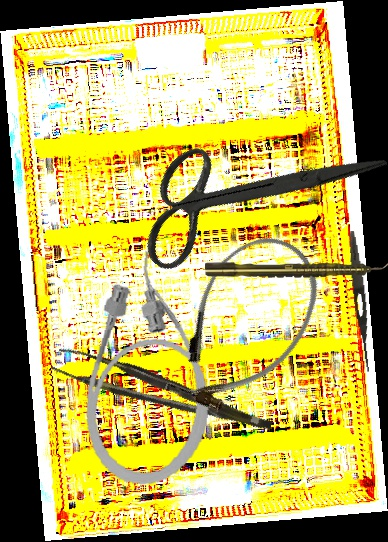Cannula: (146, 215, 343, 434), (76, 245, 227, 494)
Dressing Forceps: (345, 230, 376, 374)
Handpiece: (205, 261, 388, 278)
Iris Scissors: (114, 55, 388, 333)
Tissue Forceps: (51, 334, 273, 457)
